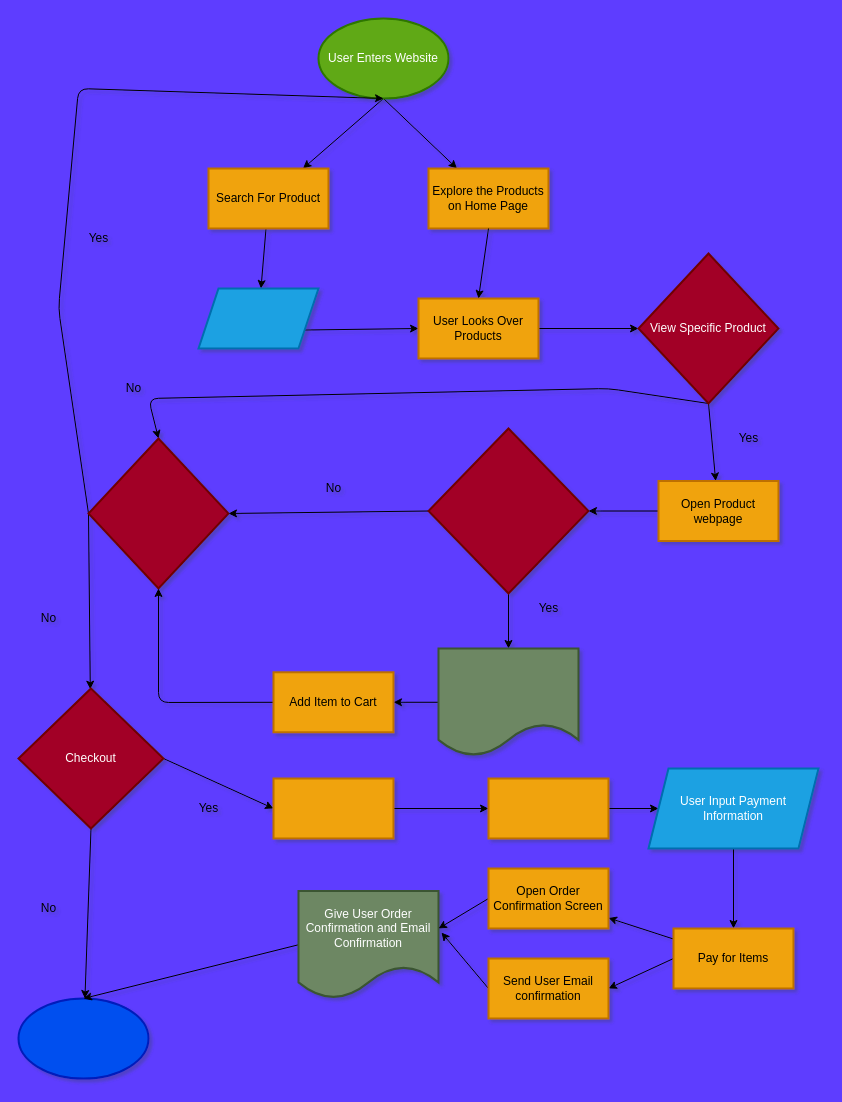
Some shapes in this 842 by 1102 pixel diagram are drawn without their labels. The shapes that lost their labels are listed below. From the top down, each one's box as (x1, y1, x2, y2) in pixels, then its label:
(197, 287, 319, 349): Read User Input
(87, 437, 229, 589): Continue Shopping
(427, 427, 589, 594): Add to Cart
(437, 647, 579, 756): Notify User Product is in cart
(272, 777, 394, 839): Open View Cart Screen
(487, 777, 609, 839): Open View Payment Screen
(17, 997, 149, 1079): User Leaves Website
